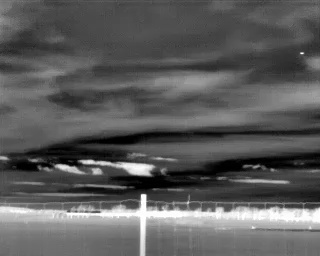AIRPLANE: (299, 49, 306, 56)
